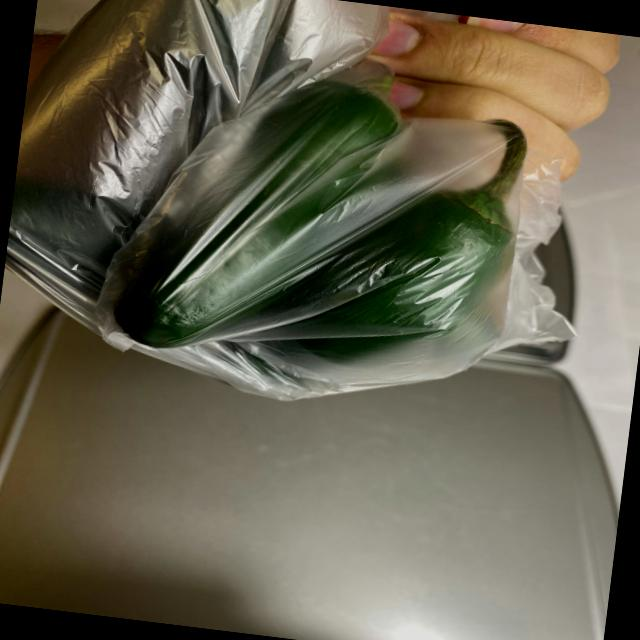chilli: (2, 1, 630, 418)
